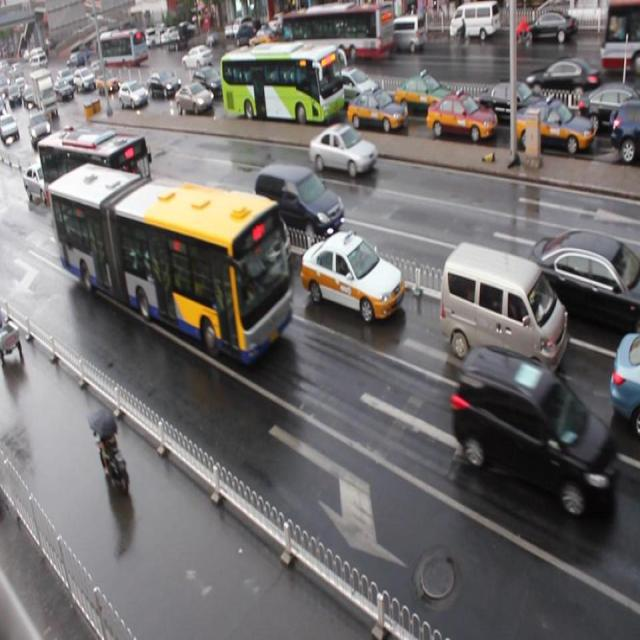car: (452, 346, 600, 516), (525, 231, 640, 338), (300, 229, 403, 321), (514, 100, 594, 160), (139, 188, 207, 252), (475, 78, 554, 128), (426, 91, 497, 145), (308, 125, 378, 176), (608, 330, 640, 433), (576, 87, 640, 133), (394, 71, 458, 117), (346, 88, 406, 134), (78, 126, 124, 173), (330, 62, 380, 103), (610, 100, 640, 161), (22, 159, 61, 204), (192, 64, 225, 101), (167, 82, 204, 114), (143, 69, 178, 97), (118, 80, 147, 107)
truck: (438, 240, 568, 389), (253, 162, 341, 245), (214, 187, 290, 282)
van: (49, 160, 296, 370), (38, 127, 154, 235), (216, 41, 339, 125)
